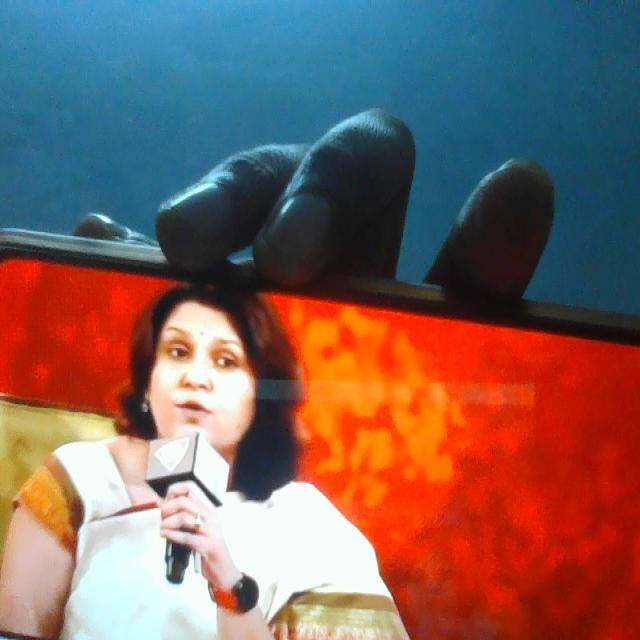fake: (145, 252, 256, 463)
